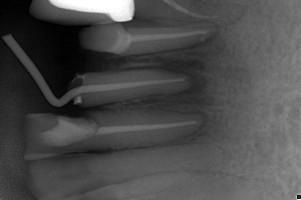Furcation Involvement: (127, 56, 214, 107), (175, 110, 208, 138), (183, 26, 221, 50)
